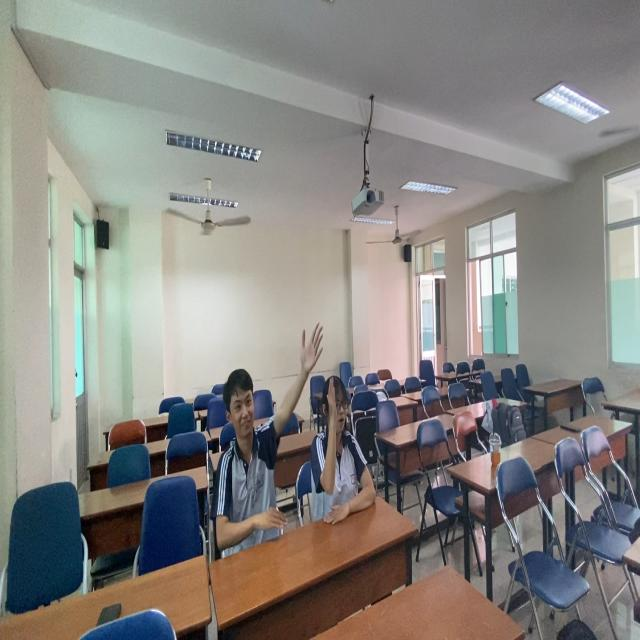raise_hand: (207, 314, 325, 559), (310, 368, 388, 536)
